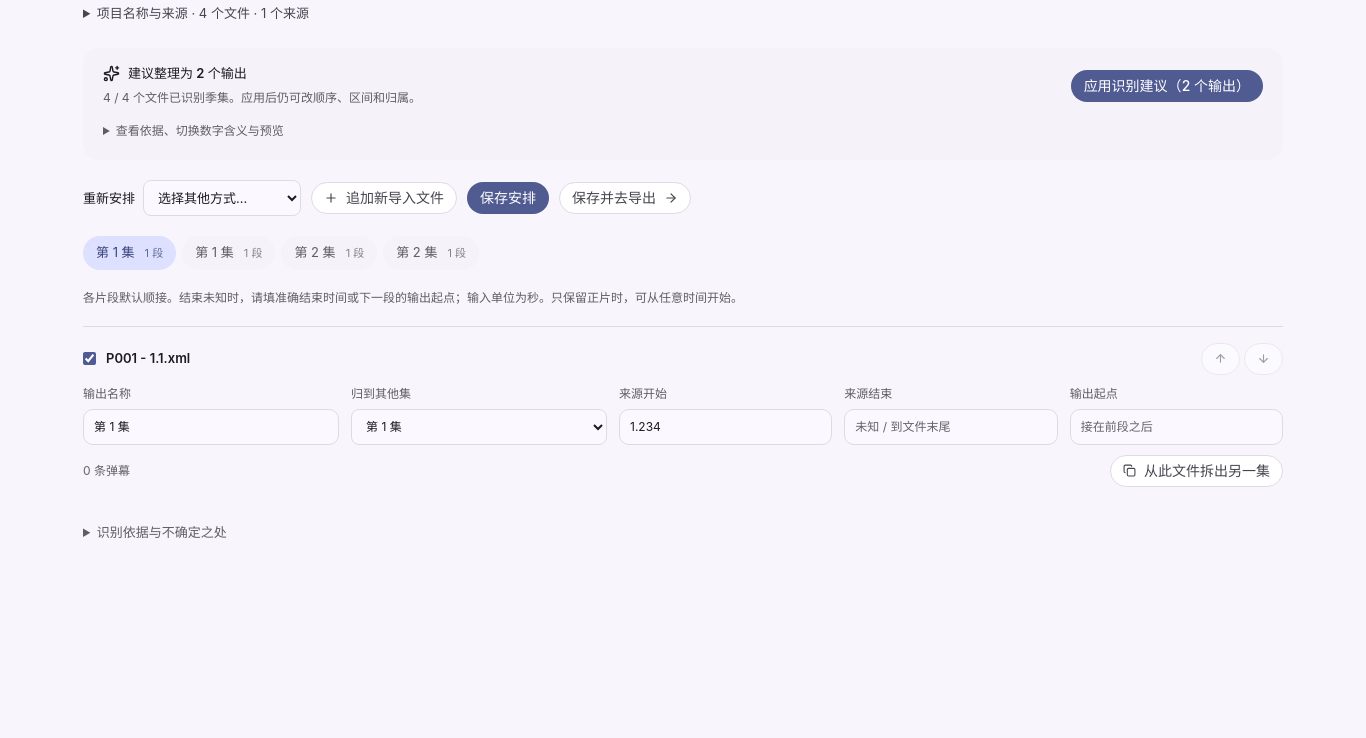
Scenario: family arrangement workflow › previews alternative numbering without touching saved edits and allows restoring before regrouping
Click the heading "查看依据、切换数字含义与预览": (200, 131) [116,123,284,138]
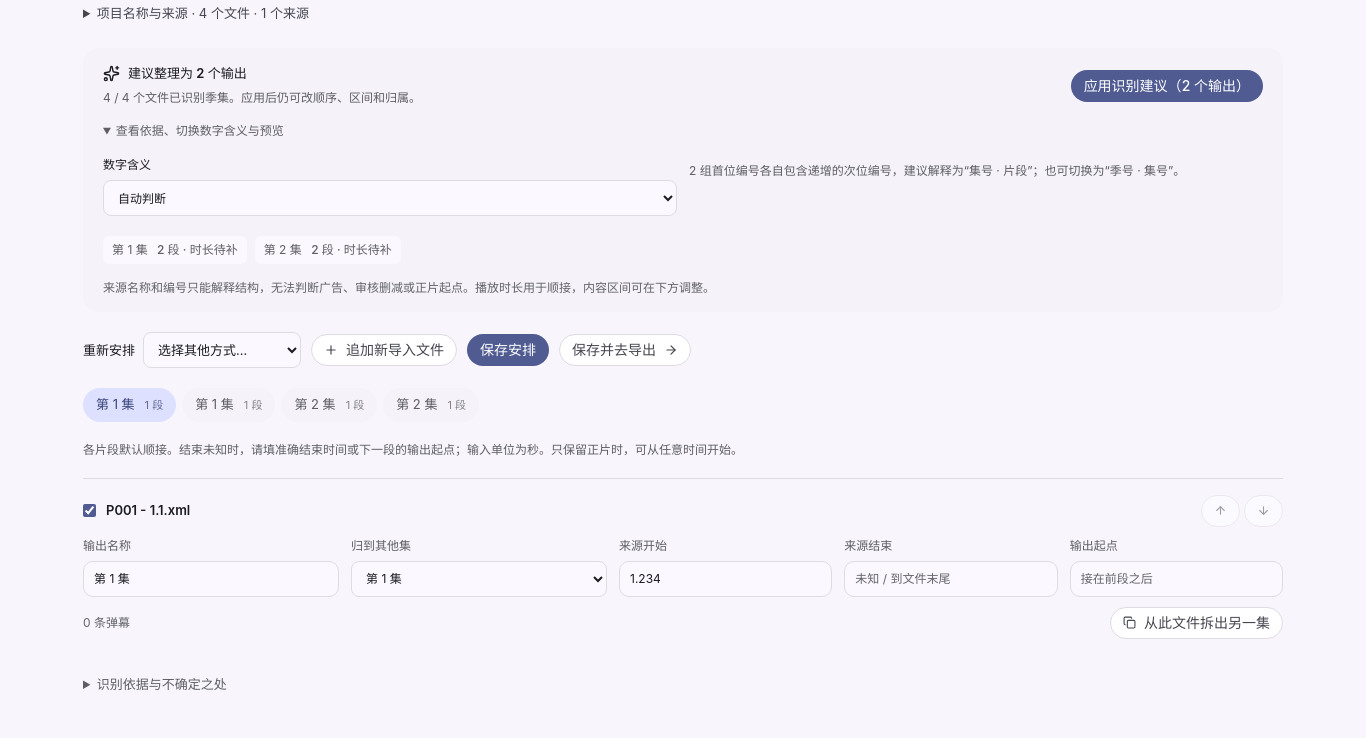
Select "季号 · 集号（1.2 = 第 1 季第 2 集）" in the dropdown labelled "数字含义": (390, 198) [103,180,677,216]
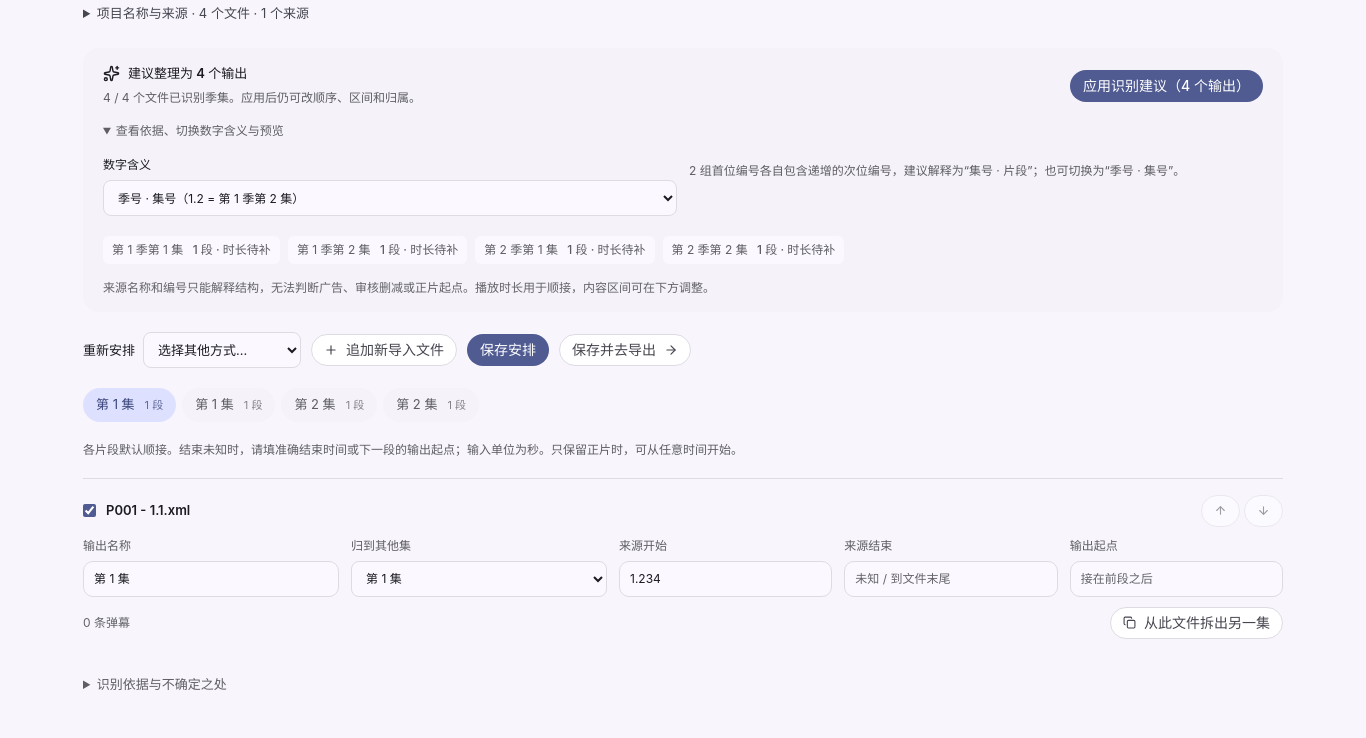
Expected: the button "应用识别建议（4 个输出）" is shown, [1070,70,1263,102]
Select "集号 · 片段（1.2 = 第 1 集第 2 段）" in the dropdown labelled "数字含义": (390, 198) [103,180,677,216]
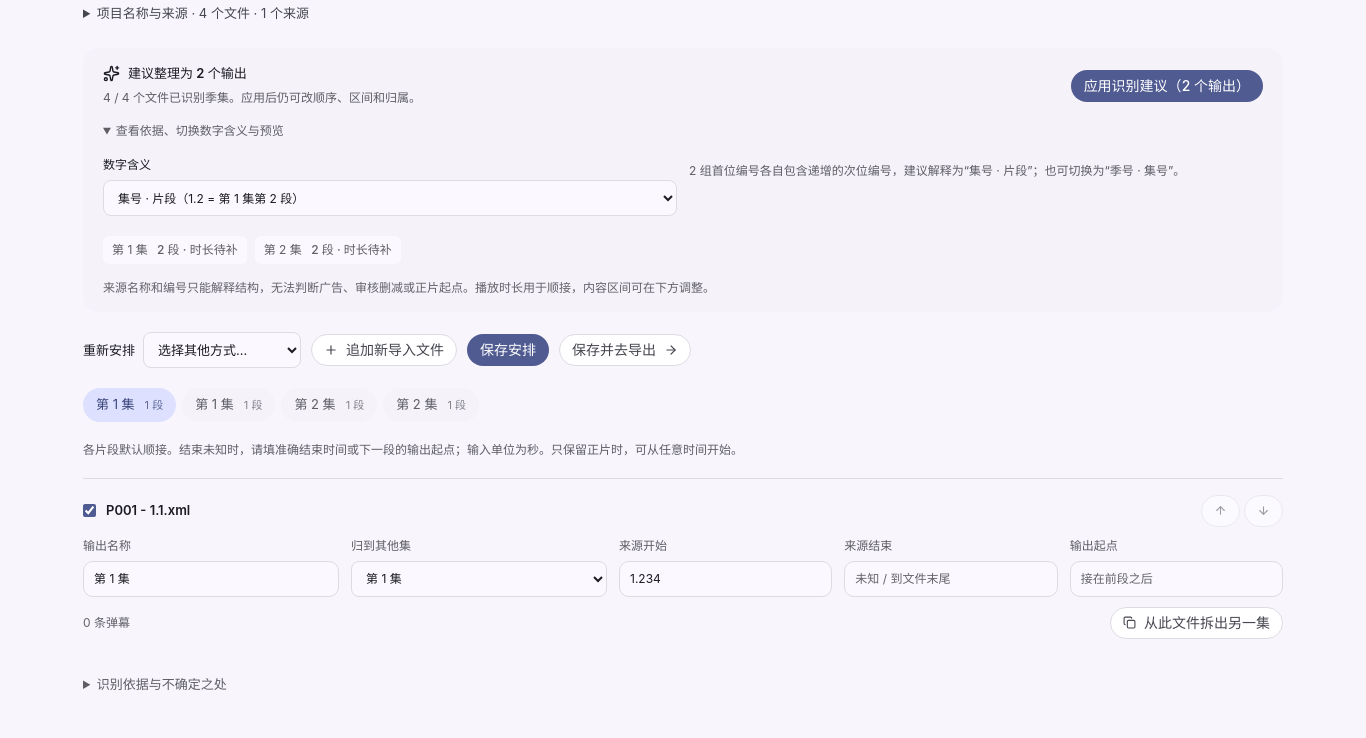
Click the button "应用识别建议（2 个输出）": (1167, 86) [1071,70,1263,102]
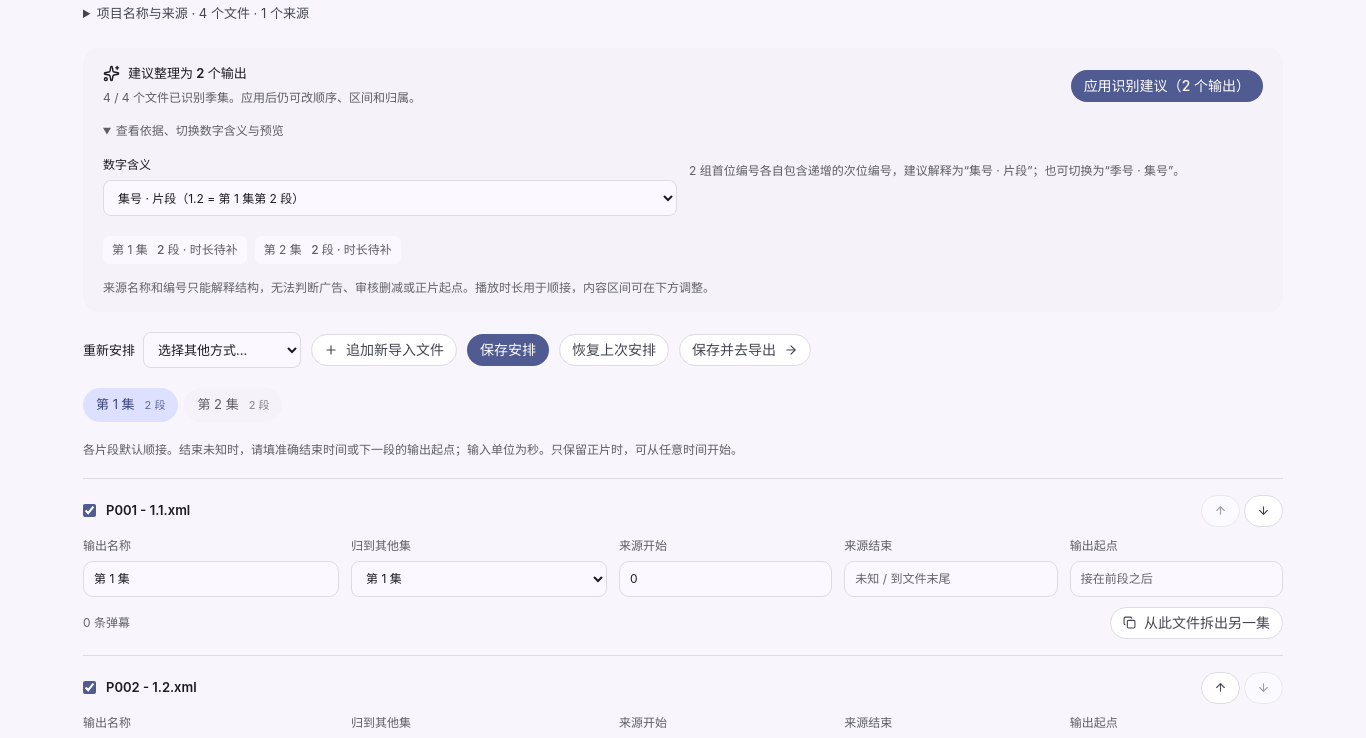
Expected: the number field named "片段 1 来源开始" holds "0", [619,561,832,597]
Click the button "恢复上次安排": (614, 350) [559,334,669,366]
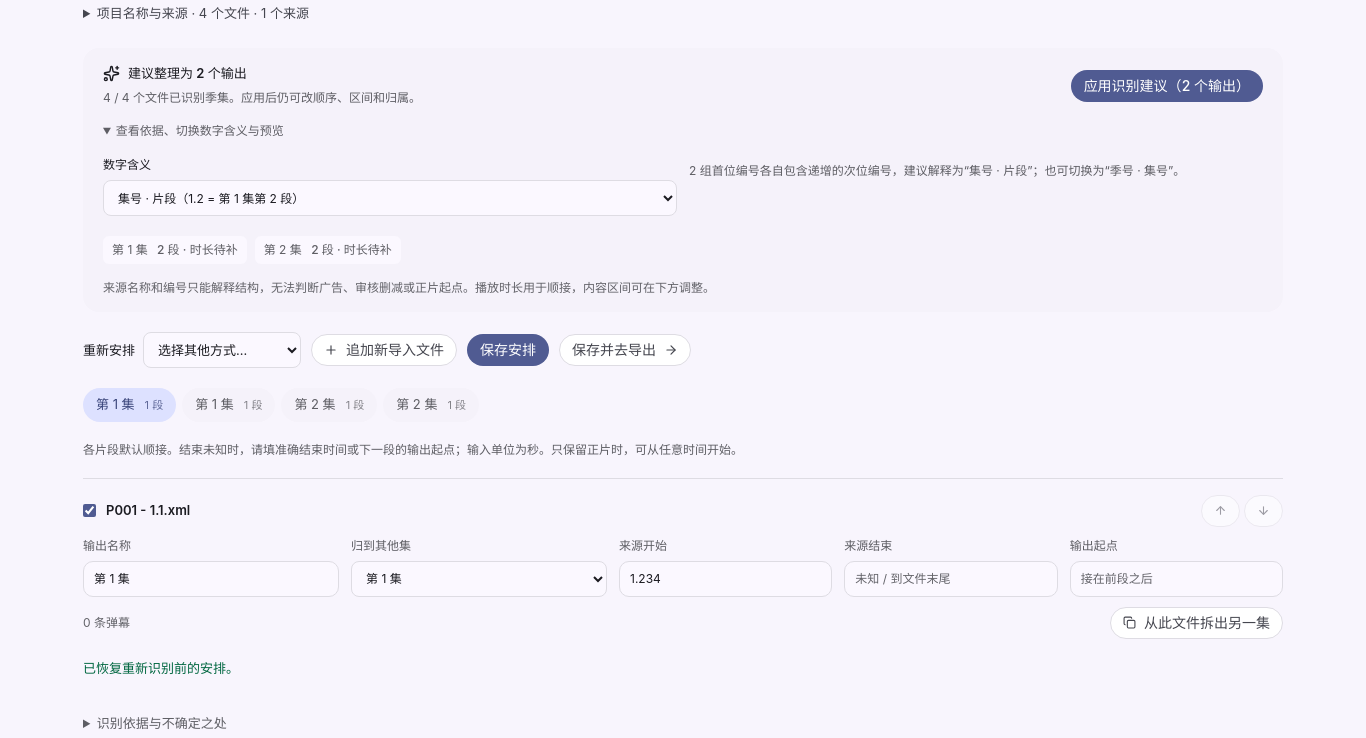
Expected: the number field named "片段 1 来源开始" holds "1.234", [619,561,832,597]
